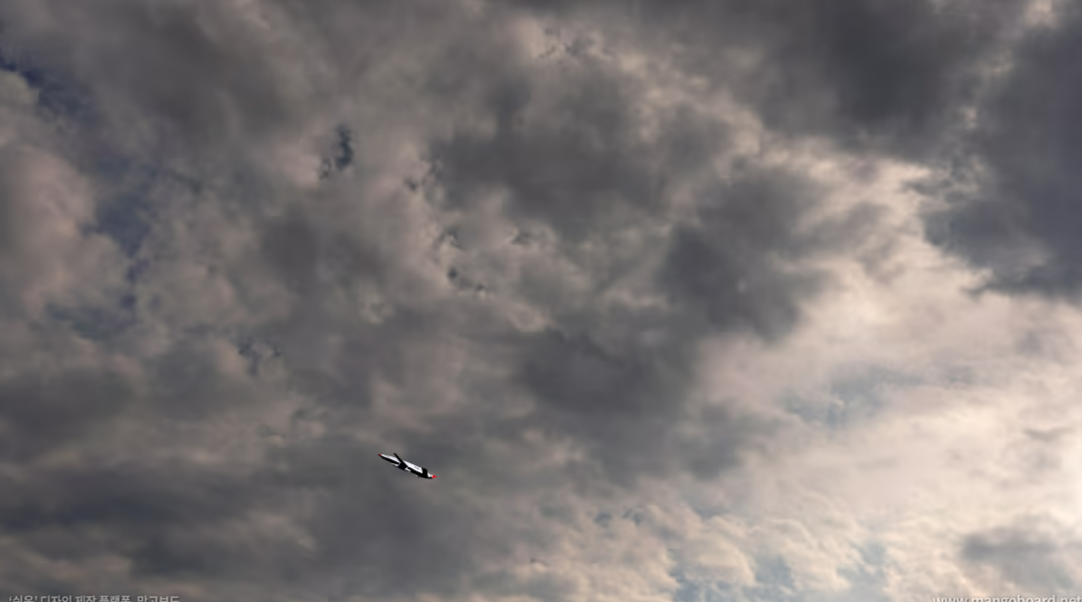military drone: (376, 452, 437, 479)
